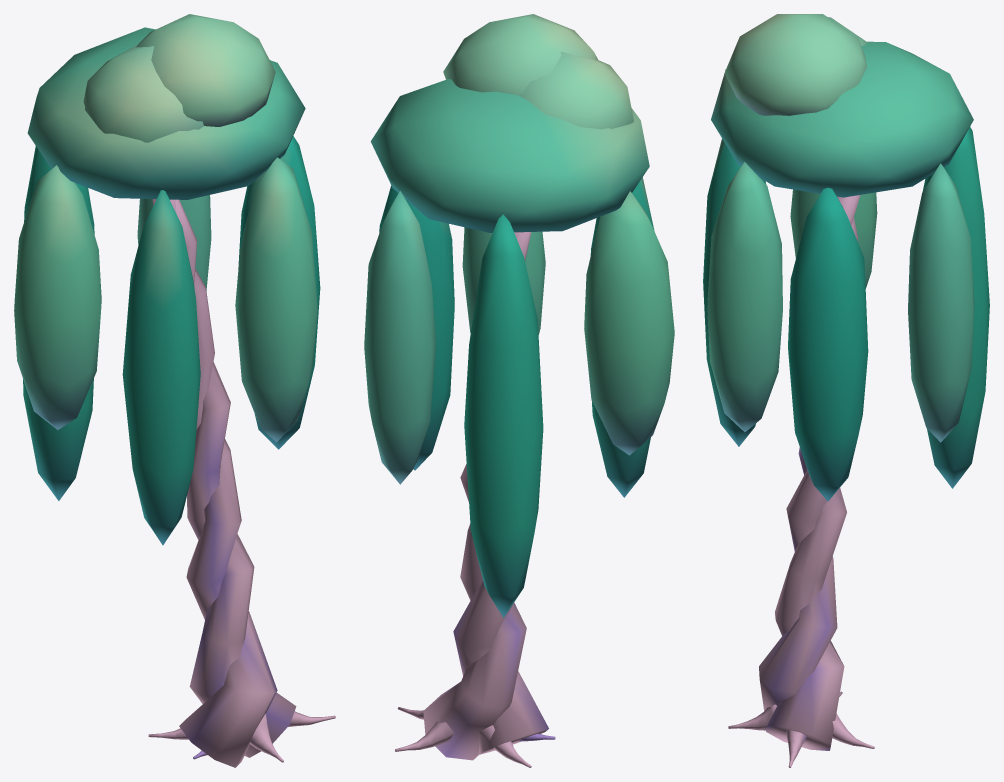
Rendered from verdant_tree_spiralwillow_b.glb.
3 renders of one model, left to right at view 1: azimuth 30°, elevation 25°; view 2: azimuth 150°, elevation 25°; view 3: azimuth 270°, elevation 25°, orthographic. The views are drawn at different scales.
Visible parts, largest first — view 1: verdant_tree_spiralwillow_b; view 2: verdant_tree_spiralwillow_b; view 3: verdant_tree_spiralwillow_b.
Boxes of the visible parts, box(x1,y1,x2,y2) form: verdant_tree_spiralwillow_b: box(14, 14, 335, 767); verdant_tree_spiralwillow_b: box(364, 14, 674, 767); verdant_tree_spiralwillow_b: box(703, 14, 989, 767).
Size of the model in its own units: 5.42 by 13.27 by 4.84.
